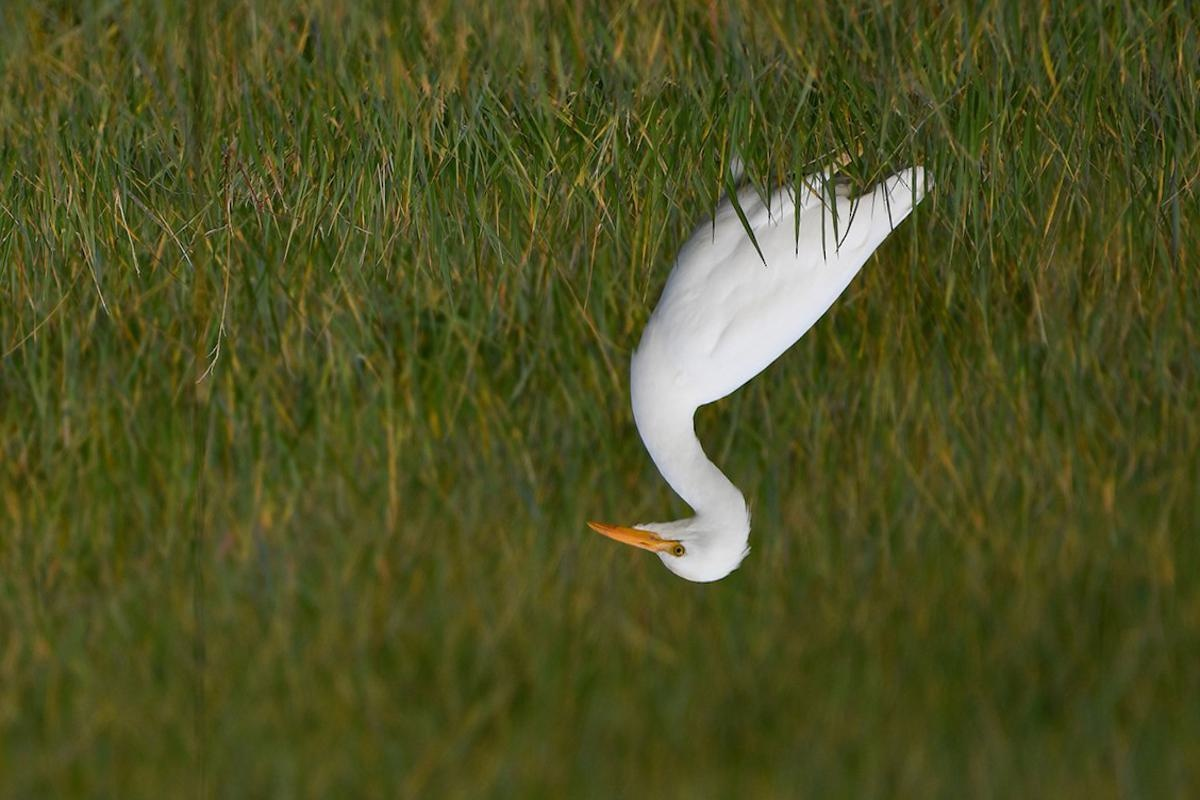egret: (576, 129, 938, 597)
